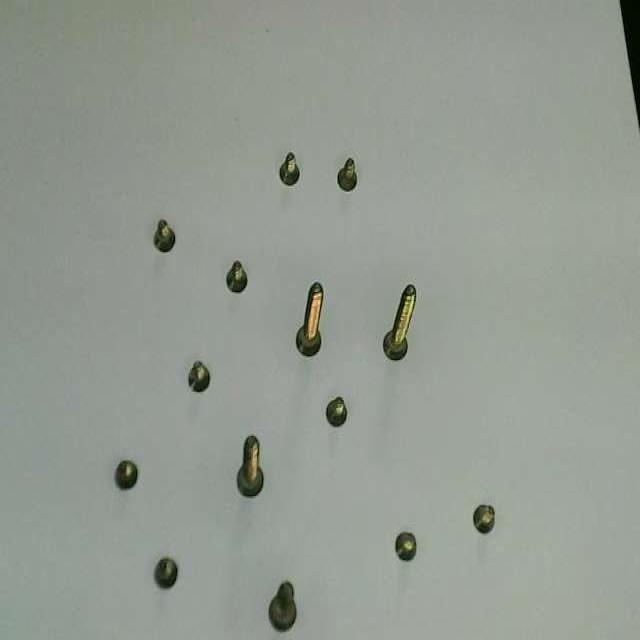Parafuso: (383, 284, 415, 359), (296, 283, 323, 357), (237, 436, 263, 497), (268, 582, 296, 631), (154, 558, 177, 589), (226, 260, 247, 293), (279, 152, 299, 185), (115, 460, 137, 490), (473, 504, 495, 534), (154, 220, 175, 251), (326, 396, 347, 426), (337, 158, 356, 191), (188, 362, 209, 391), (396, 532, 416, 561)
